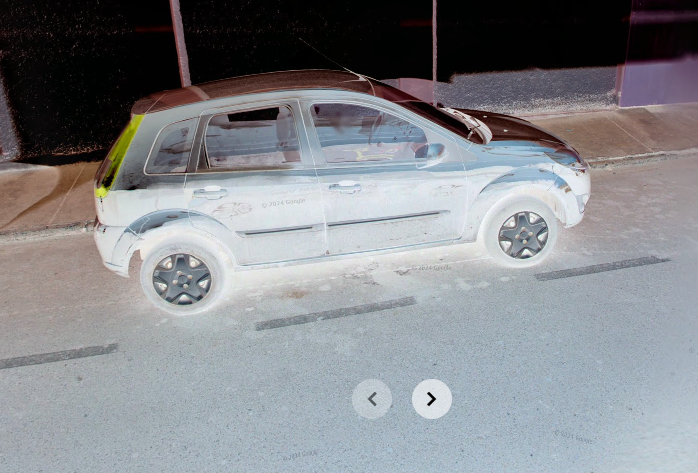car: (89, 44, 606, 320)
